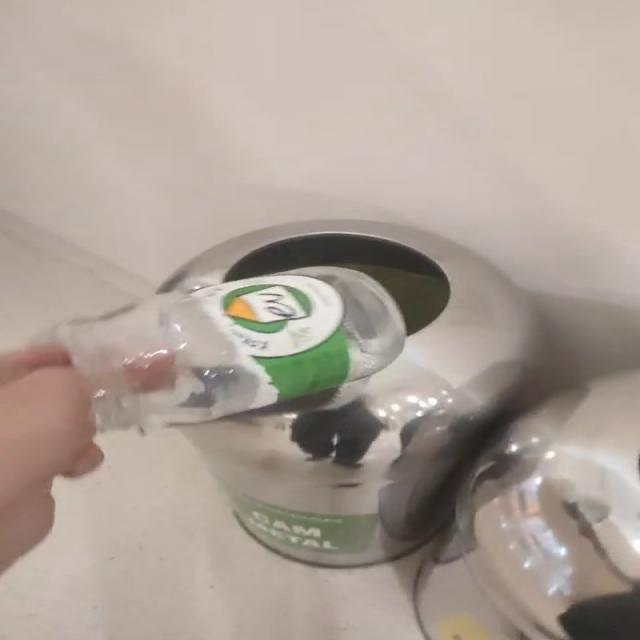Glass: (51, 268, 405, 430)
